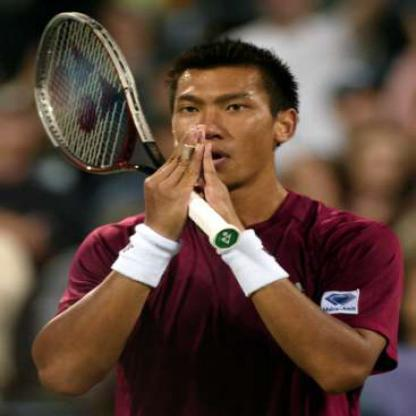face: (163, 49, 281, 186)
